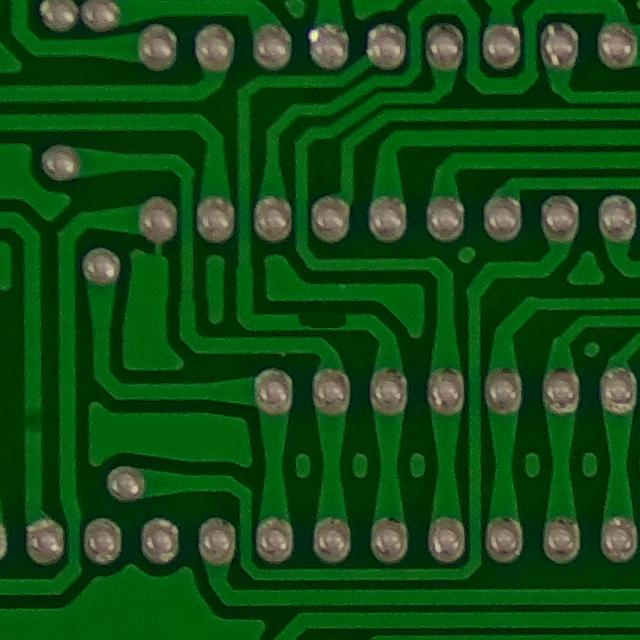mouse_bite: (283, 302, 358, 338)
